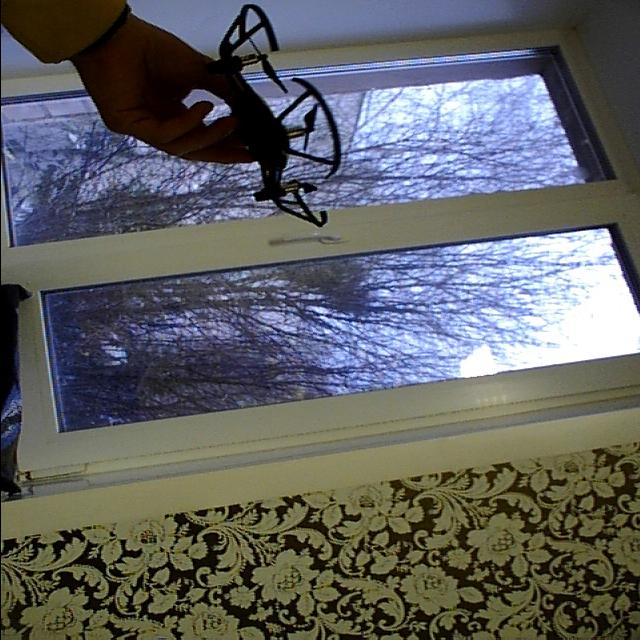drone: (148, 1, 349, 244)
